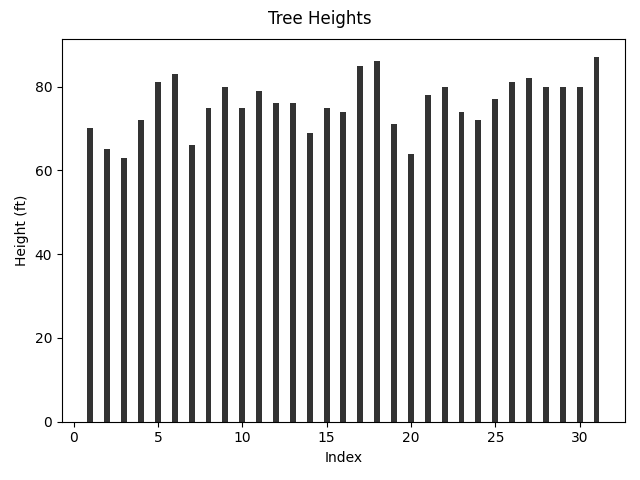canvas: (81, 54, 604, 425)
title: (265, 5, 373, 31)
x-axis: (53, 420, 634, 429)
x-labels: (62, 429, 599, 443)
x-title: (302, 448, 383, 469)
y-axis: (55, 32, 66, 426)
y-labels: (30, 65, 55, 433)
y-title: (10, 193, 32, 269)
